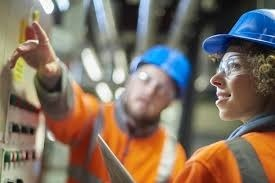helmet: (200, 8, 275, 59), (127, 45, 192, 98)
person with partial safety: (204, 8, 275, 153), (113, 42, 196, 154)
safety vest: (76, 105, 176, 182), (194, 131, 275, 178)
